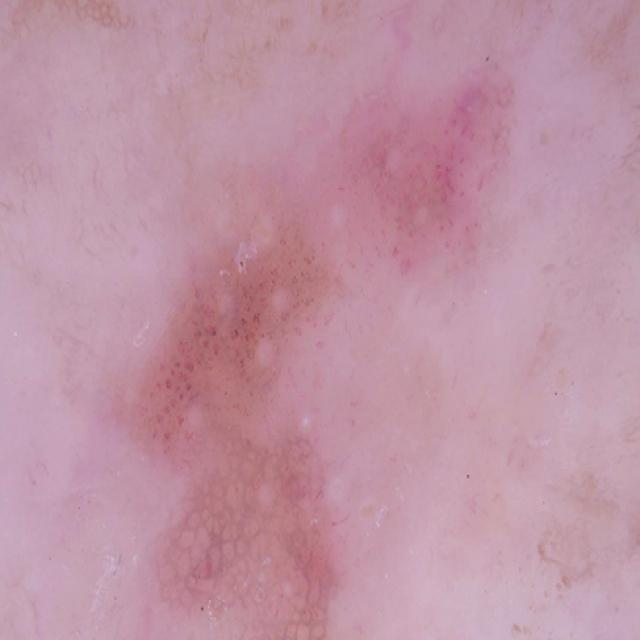Keratosis: (90, 193, 378, 640), (359, 68, 590, 390)
